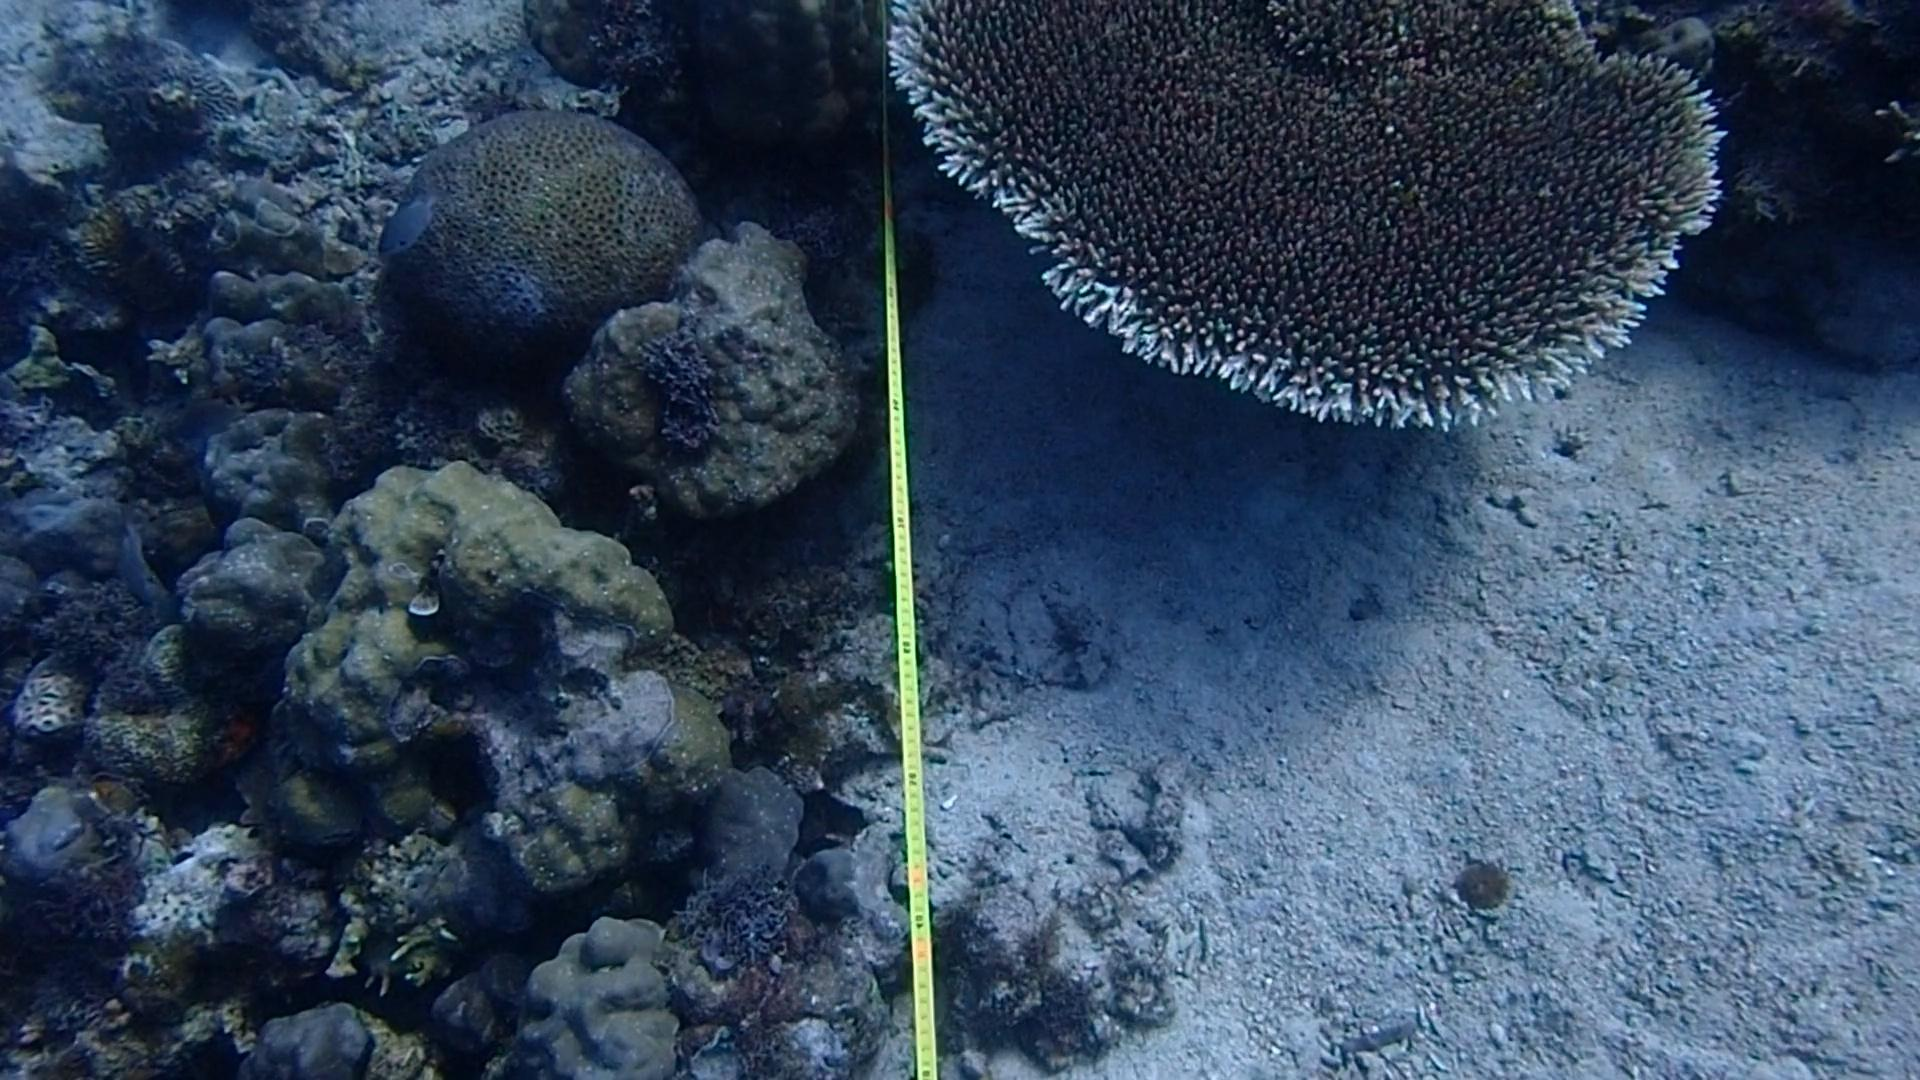Light Fish: (378, 166, 447, 274), (102, 504, 167, 603)
